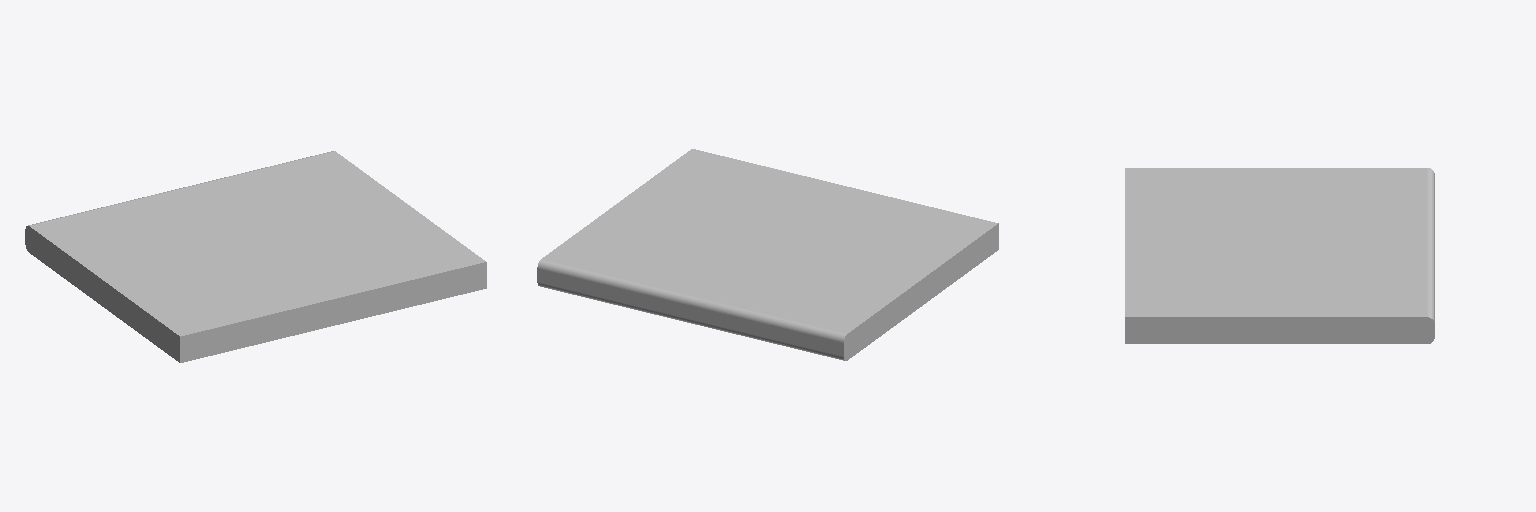
File: shelve_stage.obj
3 renders of one model, left to right at view 1: azimuth 30°, elevation 25°; view 2: azimuth 150°, elevation 25°; view 3: azimuth 270°, elevation 25°, orthographic.
Parts seen in each view (by area): view 1: stage_2; view 2: stage_2; view 3: stage_2.
Boxes of the visible parts, x1,y1,x2,y2 form: stage_2: [25, 151, 486, 362]; stage_2: [537, 149, 998, 360]; stage_2: [1125, 168, 1434, 343].
Size of the model in its own units: 60 by 5 by 52.5.